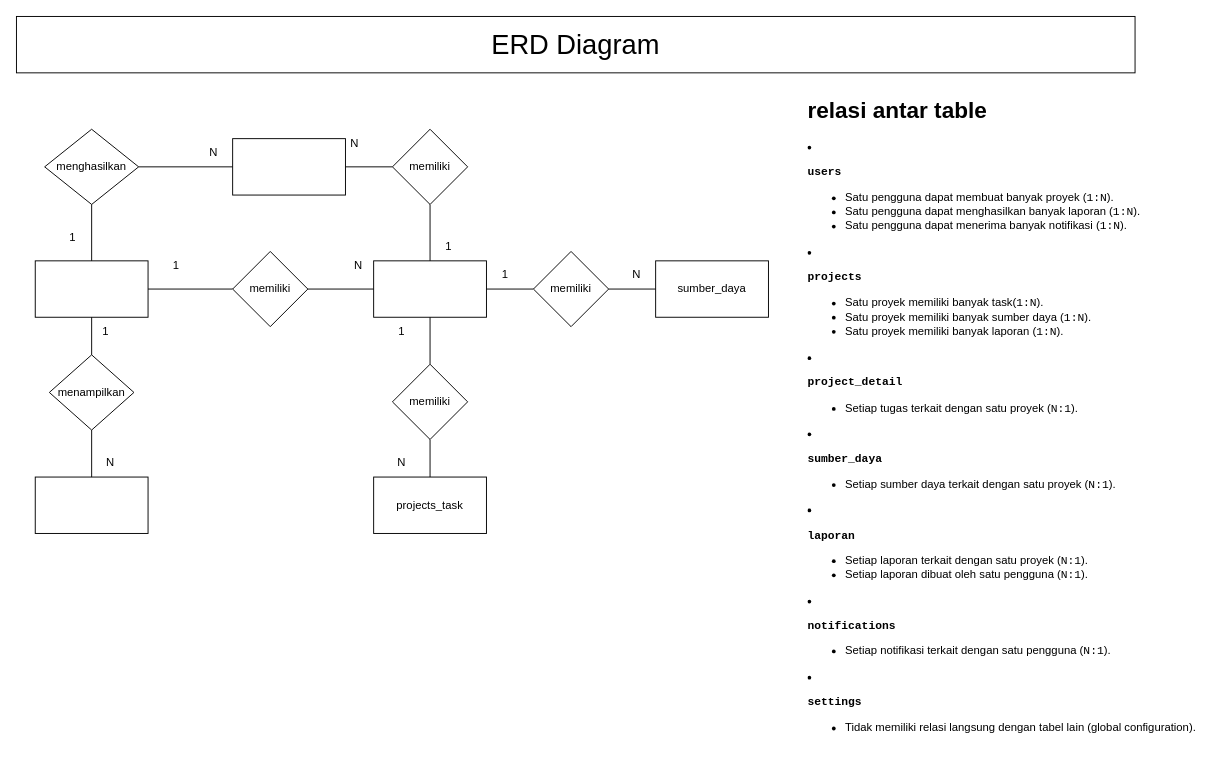
Image size: 1217x760. Some labels were removed from this diagram. Here are the shapes that lost their labels. From the top down, the centre of each, then its label:
At point 288,166: "laporan".
At point 91,288: "users".
At point 429,288: "projects".
At point 91,504: "notifikasi".
